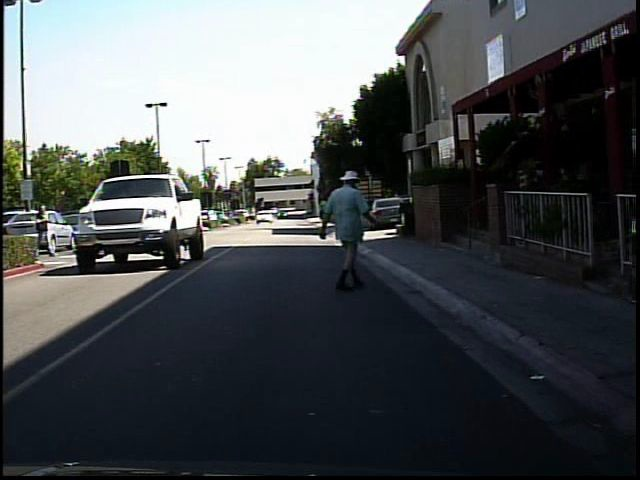person: (320, 165, 379, 293), (33, 199, 60, 262), (203, 204, 218, 228)
